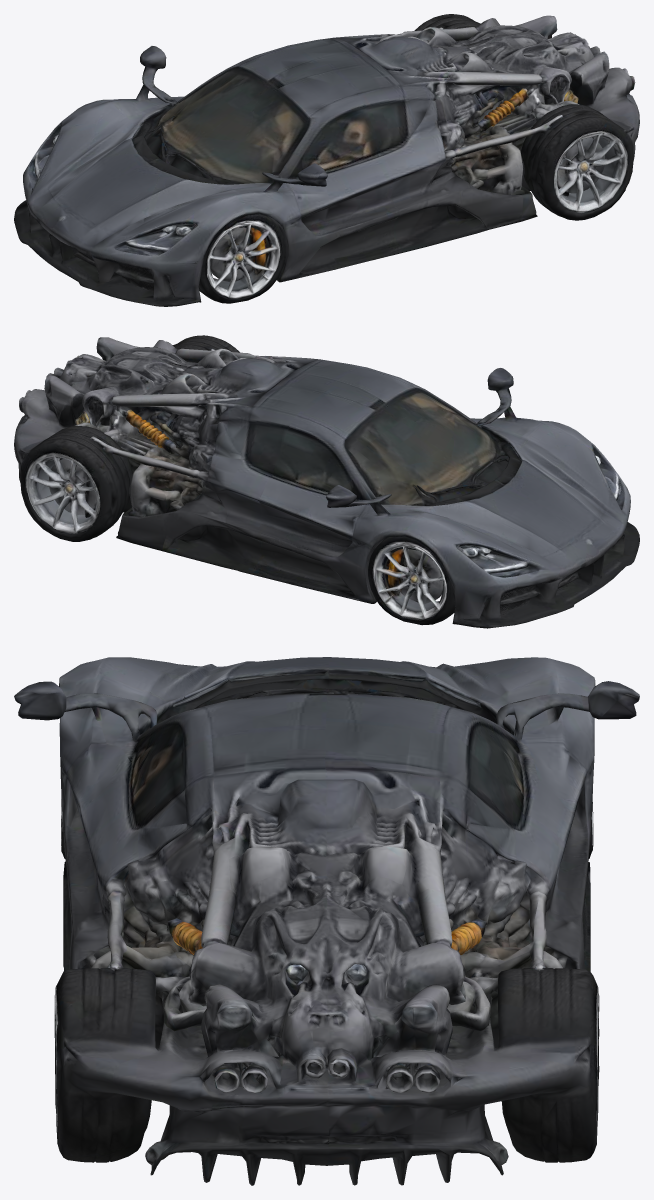
The model's file is tripo-sports.glb.
The picture shows the model from 3 angles, top to bottom: view 1: azimuth 30°, elevation 25°; view 2: azimuth 150°, elevation 25°; view 3: azimuth 270°, elevation 25°; orthographic projection. The views are drawn at different scales.
Visible parts, largest first — view 1: body, wheel-front-left, wheel-back-left; view 2: body, wheel-front-right, wheel-back-right; view 3: body, wheel-front-left, wheel-front-right.
Boxes of the visible parts, <box> form: body: <box>14,14,639,306</box>; wheel-front-left: <box>526,125,633,220</box>; wheel-back-left: <box>198,211,288,303</box>; body: <box>14,335,639,628</box>; wheel-front-right: <box>20,446,126,541</box>; wheel-back-right: <box>364,532,455,625</box>; body: <box>14,657,639,1185</box>; wheel-front-left: <box>54,987,124,1162</box>; wheel-front-right: <box>532,978,599,1162</box>.
Bounding box in the file's own units: 0.9805 × 0.2548 × 0.5364.
1 material, 1 textured.
